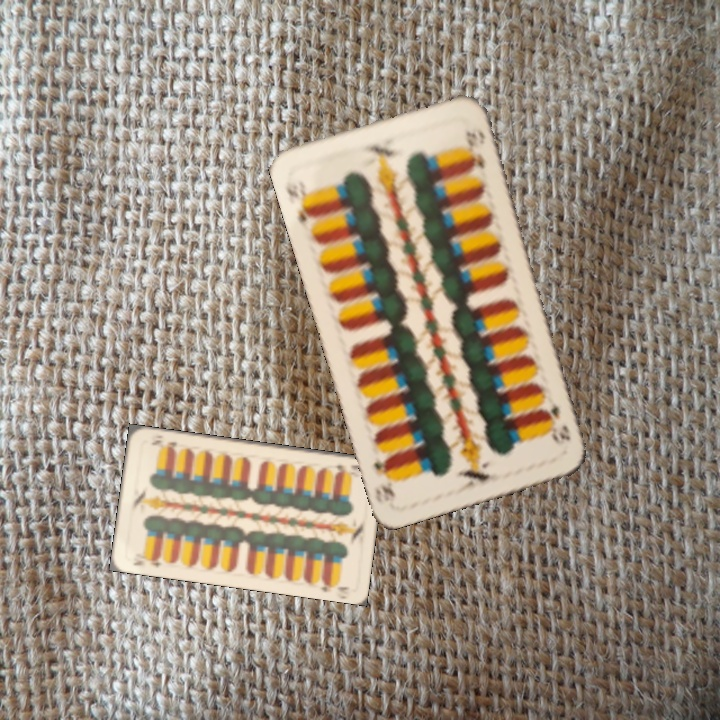E10: (281, 172, 319, 225), (542, 393, 573, 447), (129, 552, 164, 570), (330, 461, 364, 476)
